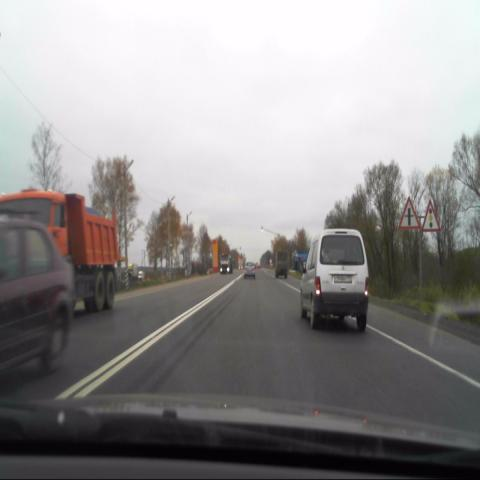1_8: (421, 200, 441, 234)
2_3: (398, 195, 420, 230)
